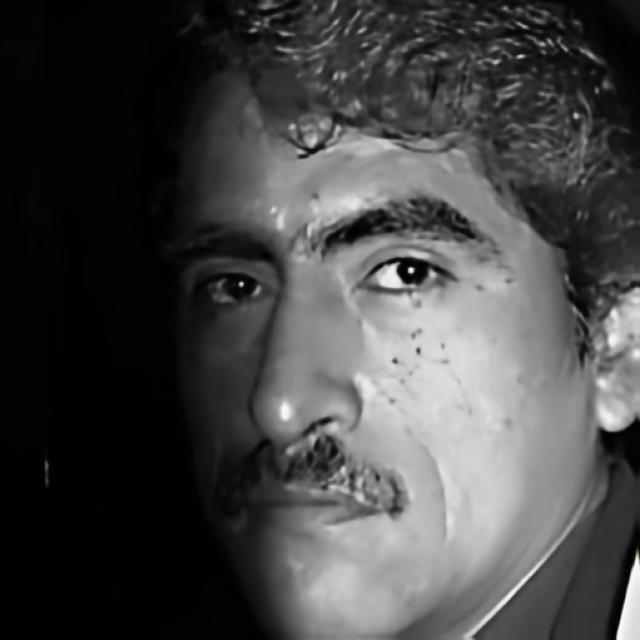anger: (152, 110, 568, 640)
